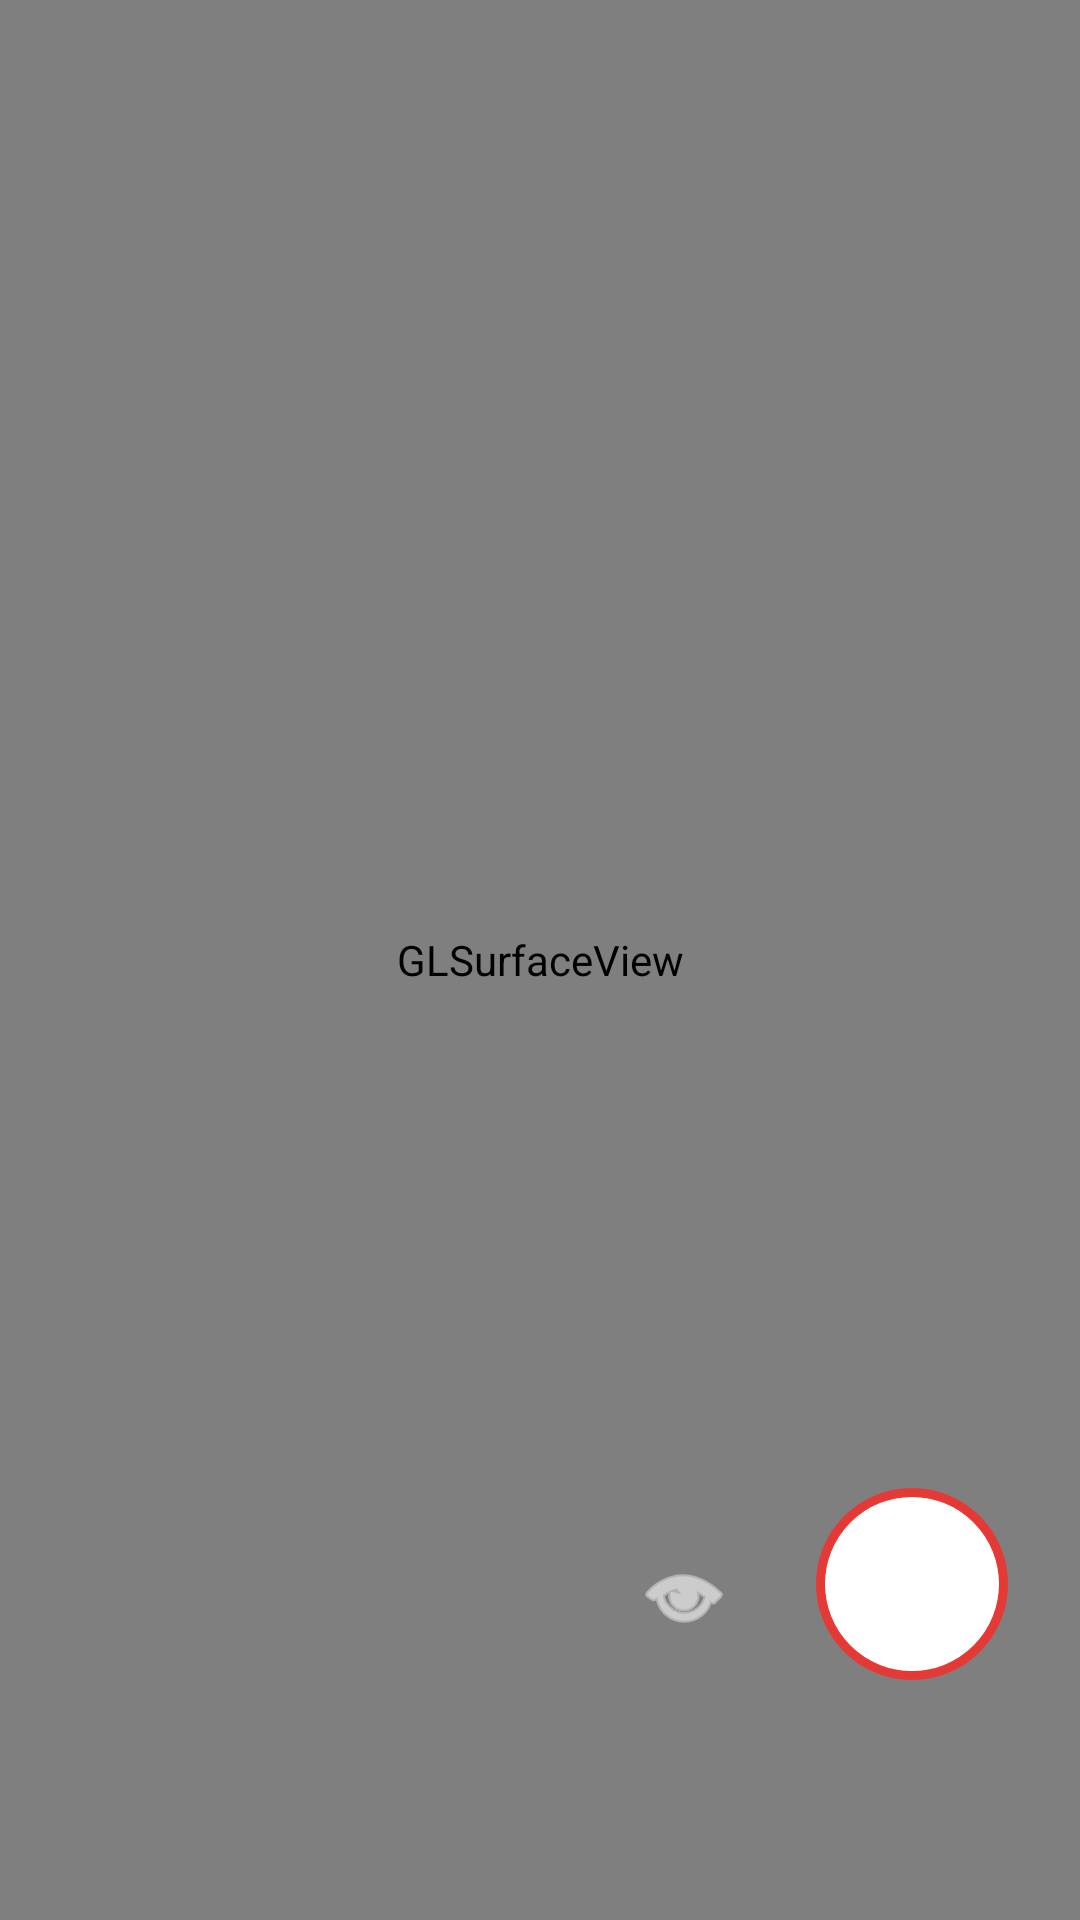

Locate icon controls on the screen. Image size 1080 x 1920, boxes as (x1, y1, x2, y2).
View Recordings: (645, 1574, 723, 1623)
